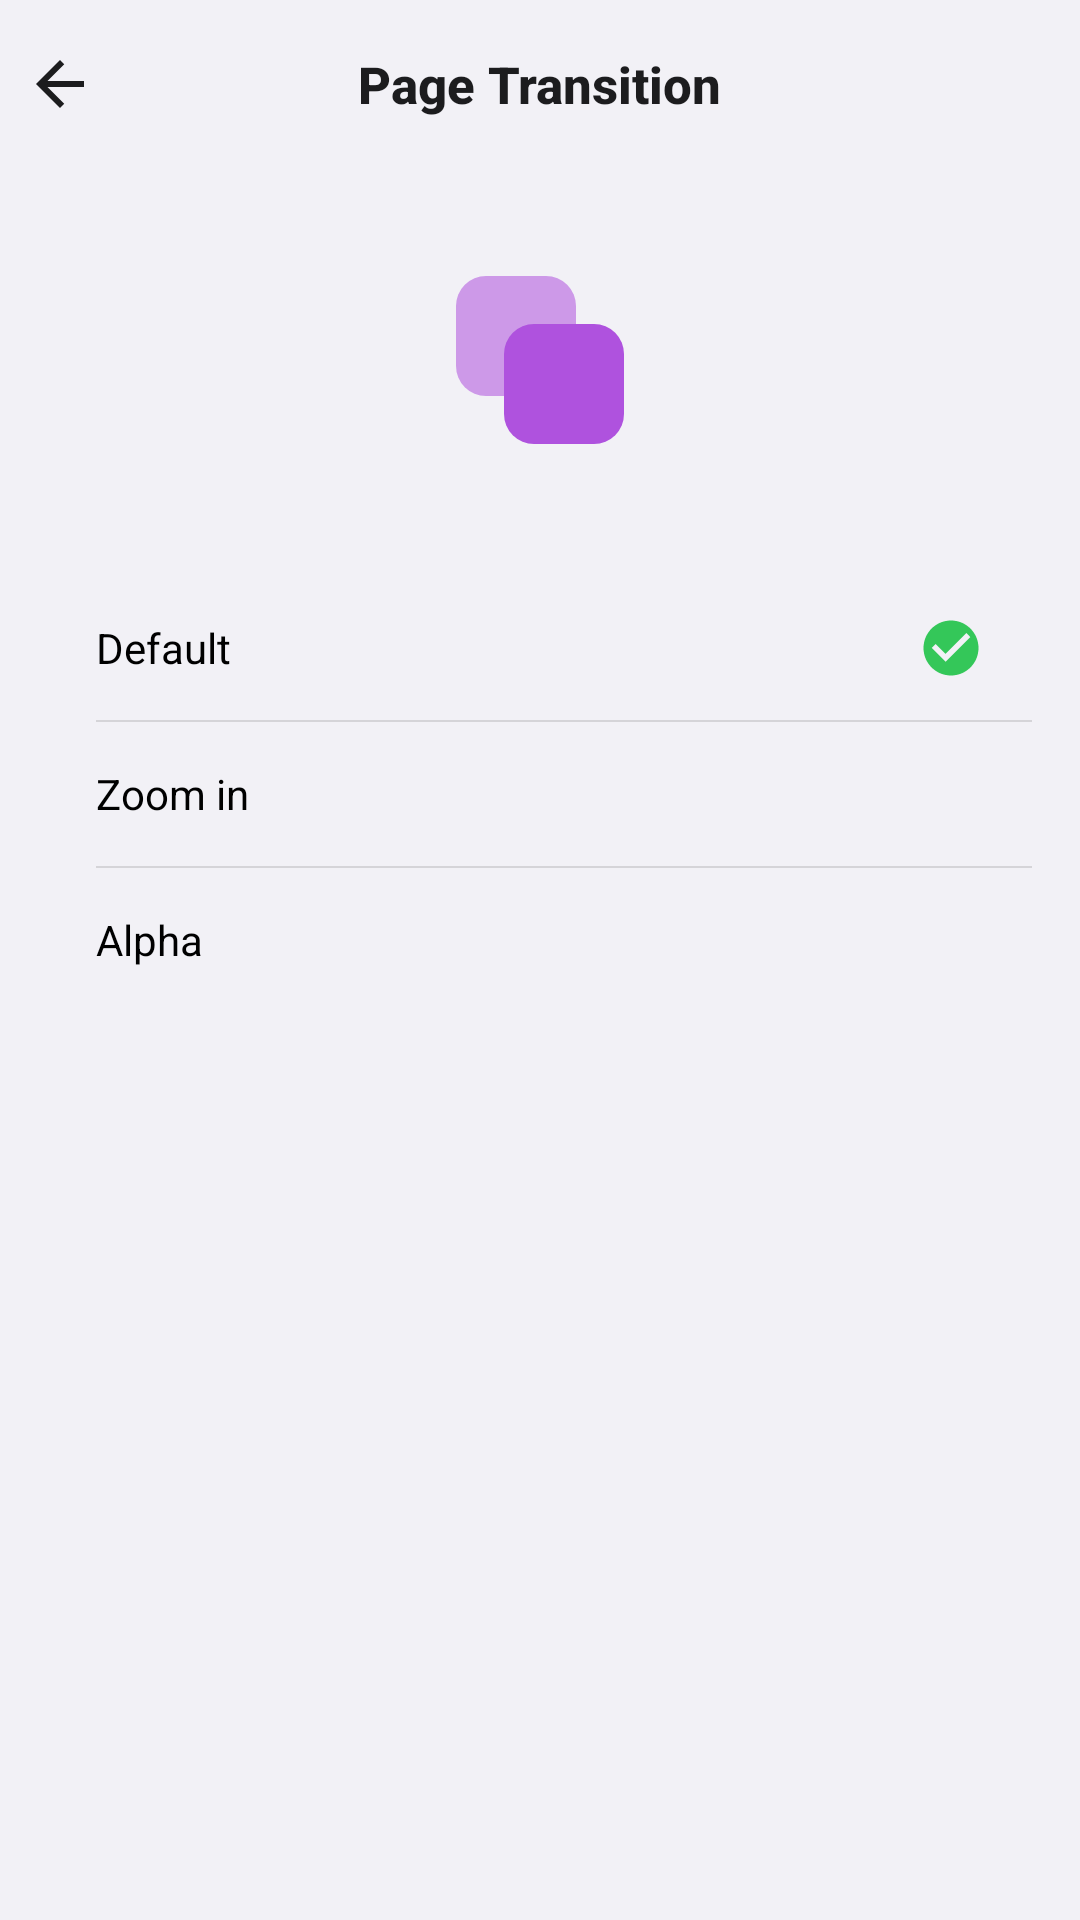

Locate icon controls on the screen. Image size 1080 × 1920, boxes as bbox=[x1, y1, x2, y2].
back arrow: bbox=[36, 60, 84, 108]
check circle: bbox=[923, 620, 979, 676]
